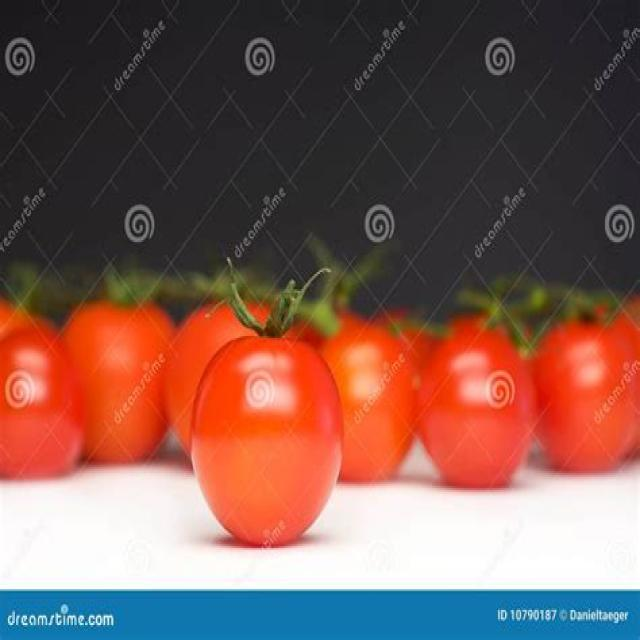Tomato: (184, 335, 343, 549)
